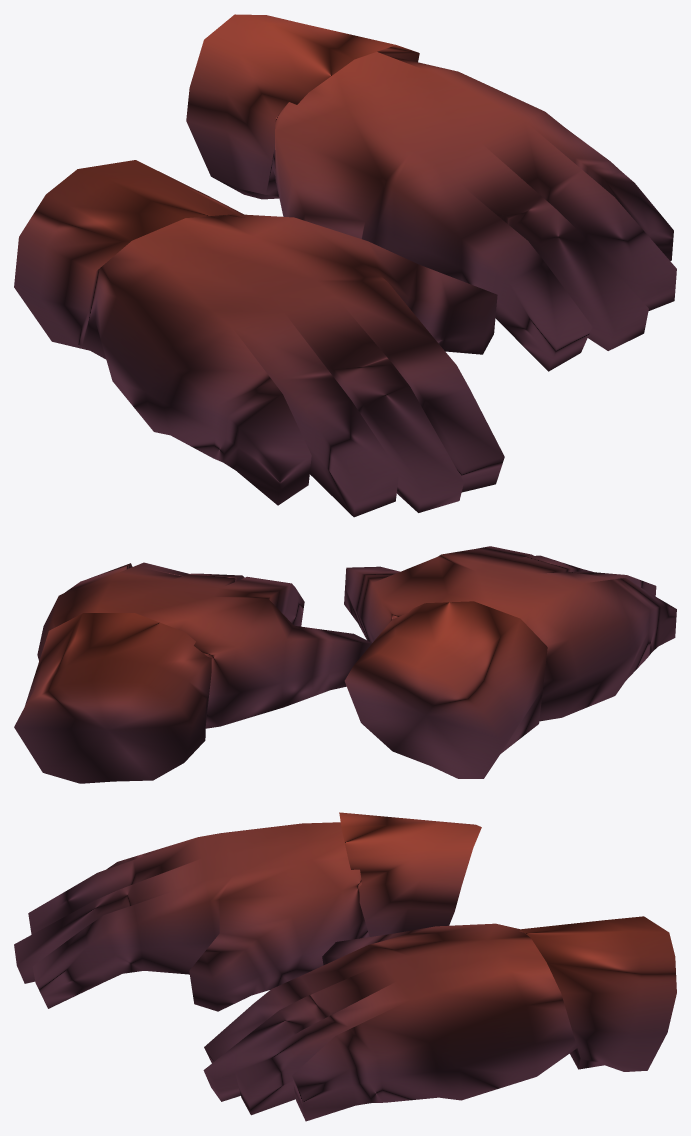
File: Gloves02.fbx
3 renders of one model, top to bottom at view 1: azimuth 30°, elevation 25°; view 2: azimuth 150°, elevation 25°; view 3: azimuth 270°, elevation 25°, orthographic. The views are drawn at different scales.
Visible parts, largest first — view 1: Gloves02; view 2: Gloves02; view 3: Gloves02.
Boxes of the visible parts, left/top/right/bottom form: Gloves02: left=14, top=14, right=676, bottom=517; Gloves02: left=14, top=546, right=676, bottom=783; Gloves02: left=14, top=812, right=676, bottom=1121.
Size of the model in its own units: 37.88 by 10.57 by 46.88.
1 material, 1 textured.
